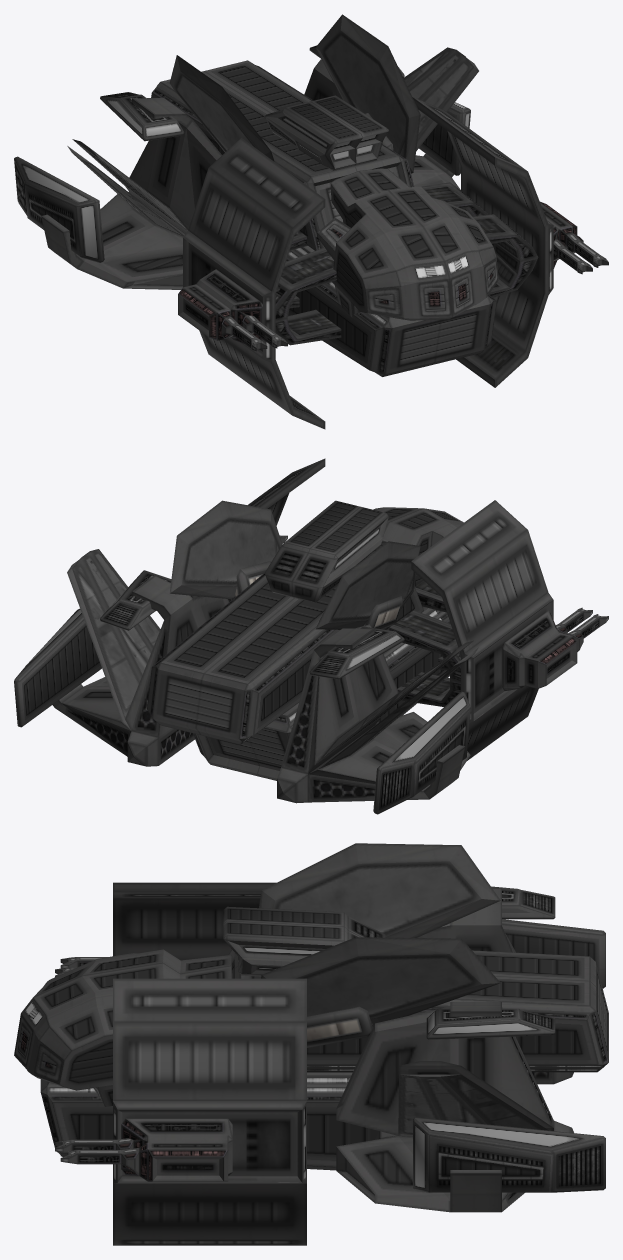
File: omegaisTioFighterB.FBX
3 views of the same model, one above another, from view 1: azimuth 30°, elevation 25°; view 2: azimuth 150°, elevation 25°; view 3: azimuth 270°, elevation 25° (orthographic). The views are drawn at different scales.
Visible parts, largest first — view 1: FighterB; view 2: FighterB; view 3: FighterB.
Part boxes in pixels (left/top/right/bottom): FighterB: left=14, top=14, right=608, bottom=429; FighterB: left=14, top=458, right=608, bottom=814; FighterB: left=14, top=843, right=608, bottom=1245.
Size of the model in its own units: 419 by 464 by 264.
